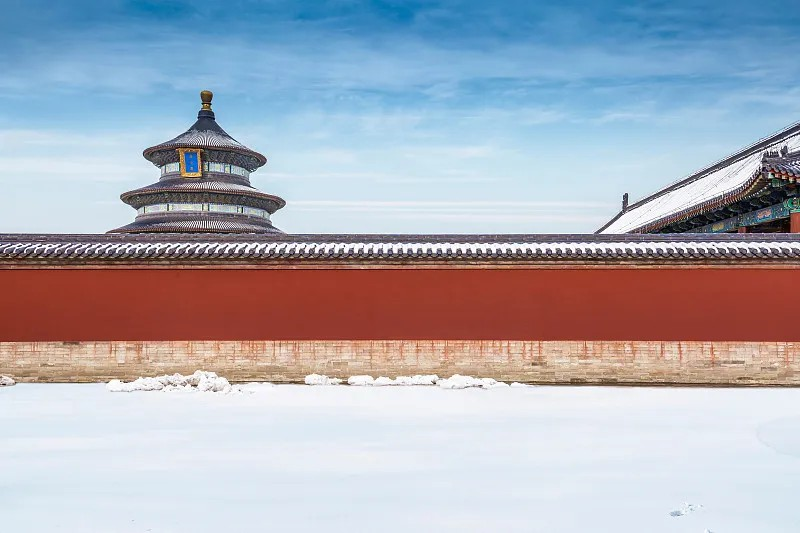Heaven: (102, 88, 290, 235)
